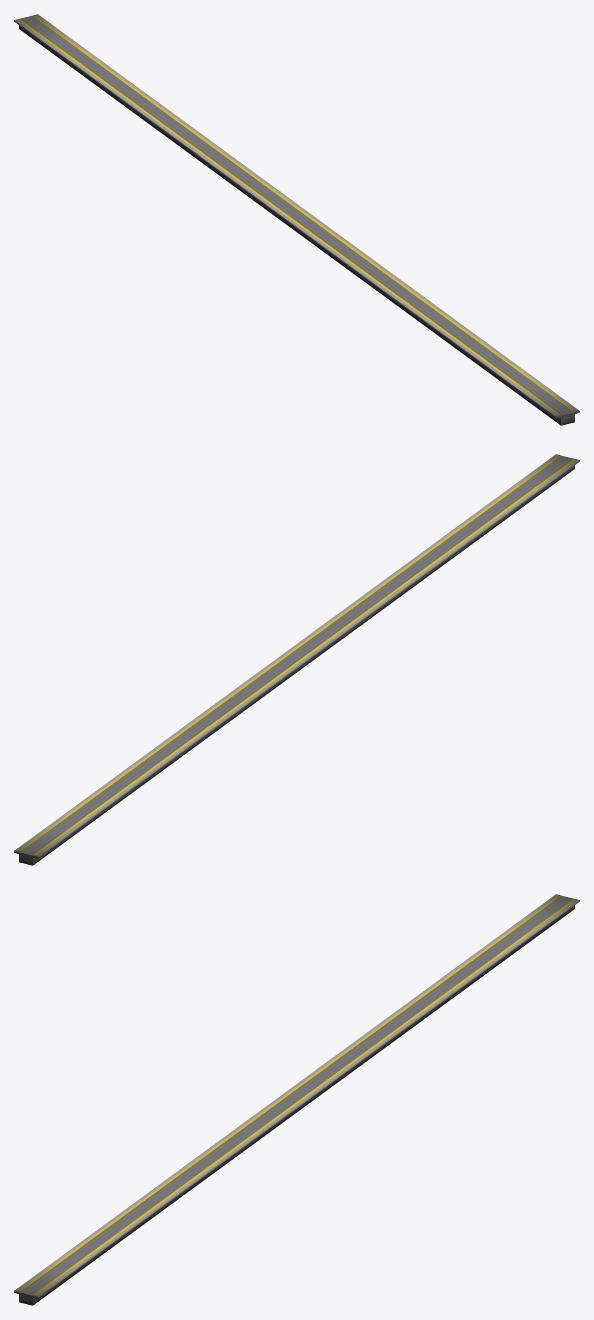
Rendered from HOME_32.glb.
3 views of the same model, one above another, from view 1: azimuth 30°, elevation 25°; view 2: azimuth 150°, elevation 25°; view 3: azimuth 330°, elevation 25° (orthographic).
Parts seen in each view (by area): view 1: W_Home_Left, y_Block2; view 2: W_Home_Left, y_Block2; view 3: W_Home_Left, y_Block2.
Boxes of the visible parts, x1,y1,x2,y2 form: W_Home_Left: (14,14,579,425); y_Block2: (15,15,578,415); W_Home_Left: (14,454,579,865); y_Block2: (15,455,578,855); W_Home_Left: (14,894,579,1305); y_Block2: (15,895,578,1295).
Size of the model in its own units: 10.2 by 4.12 by 400.
Materials: 4 (4 with a texture image).
